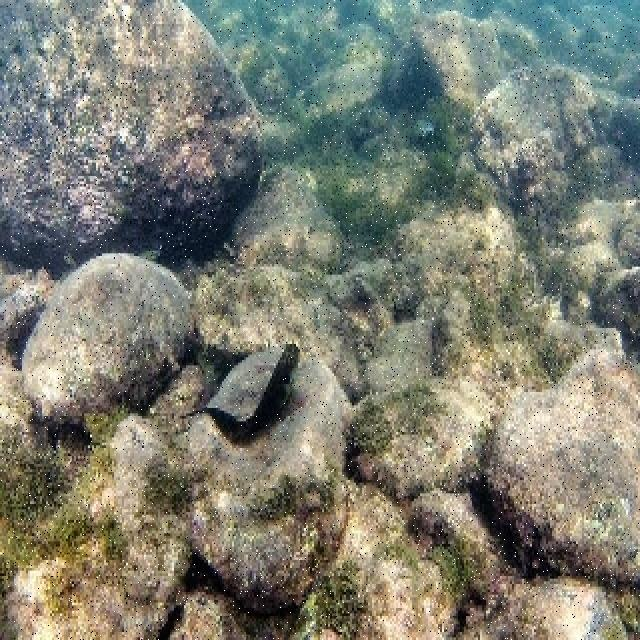fish: (181, 344, 300, 449)
sea-floor: (0, 0, 262, 281), (22, 254, 194, 431)
